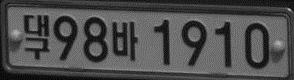0: (243, 21, 270, 69)
1: (151, 19, 178, 66), (212, 20, 238, 67)
8: (82, 16, 108, 62)
9: (180, 19, 207, 65), (52, 14, 78, 60)
대구_V: (22, 13, 51, 60)
바: (111, 20, 139, 61)
